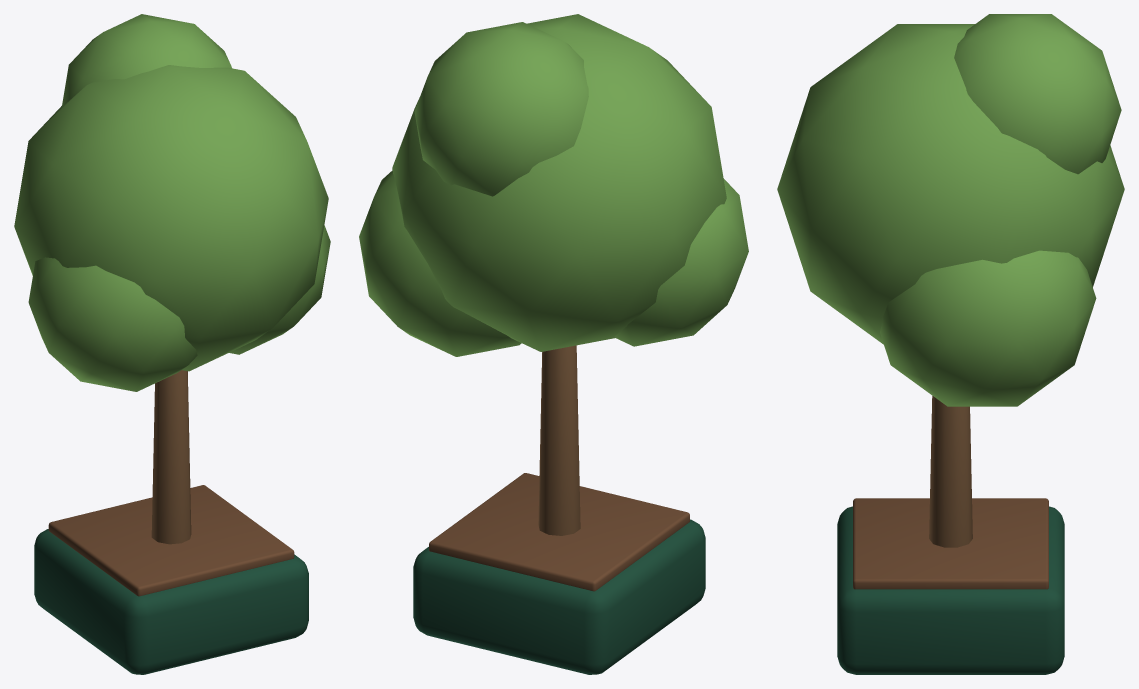
The model's file is prop_tree2.glb.
3 views of the same model, side by side, from view 1: azimuth 30°, elevation 25°; view 2: azimuth 150°, elevation 25°; view 3: azimuth 270°, elevation 25° (orthographic). The views are drawn at different scales.
Visible parts, largest first — view 1: tree2; view 2: tree2; view 3: tree2.
Boxes of the visible parts, x1,y1,x2,y2 form: tree2: [14, 14, 330, 674]; tree2: [359, 14, 748, 674]; tree2: [777, 14, 1124, 674].
Size of the model in its own units: 1.2 by 2.17 by 1.1.
